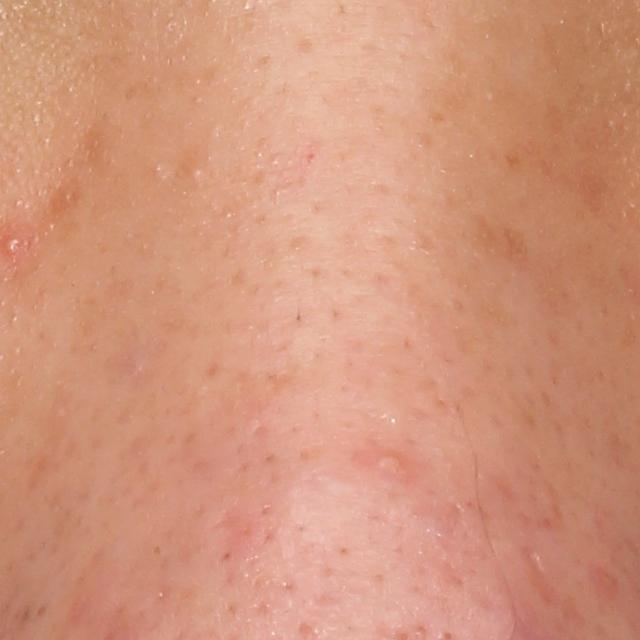pustule: (370, 450, 409, 480)
